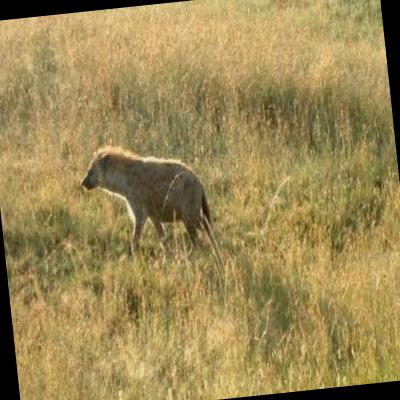hyenas: (52, 115, 264, 274)
